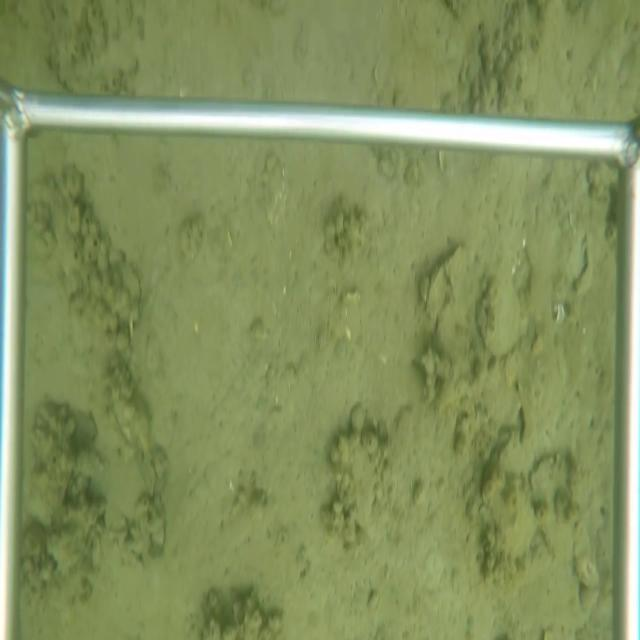Oyster-Closed: (122, 254, 149, 334)
Oyster-Indeterminate: (478, 426, 538, 569), (475, 277, 528, 358)
